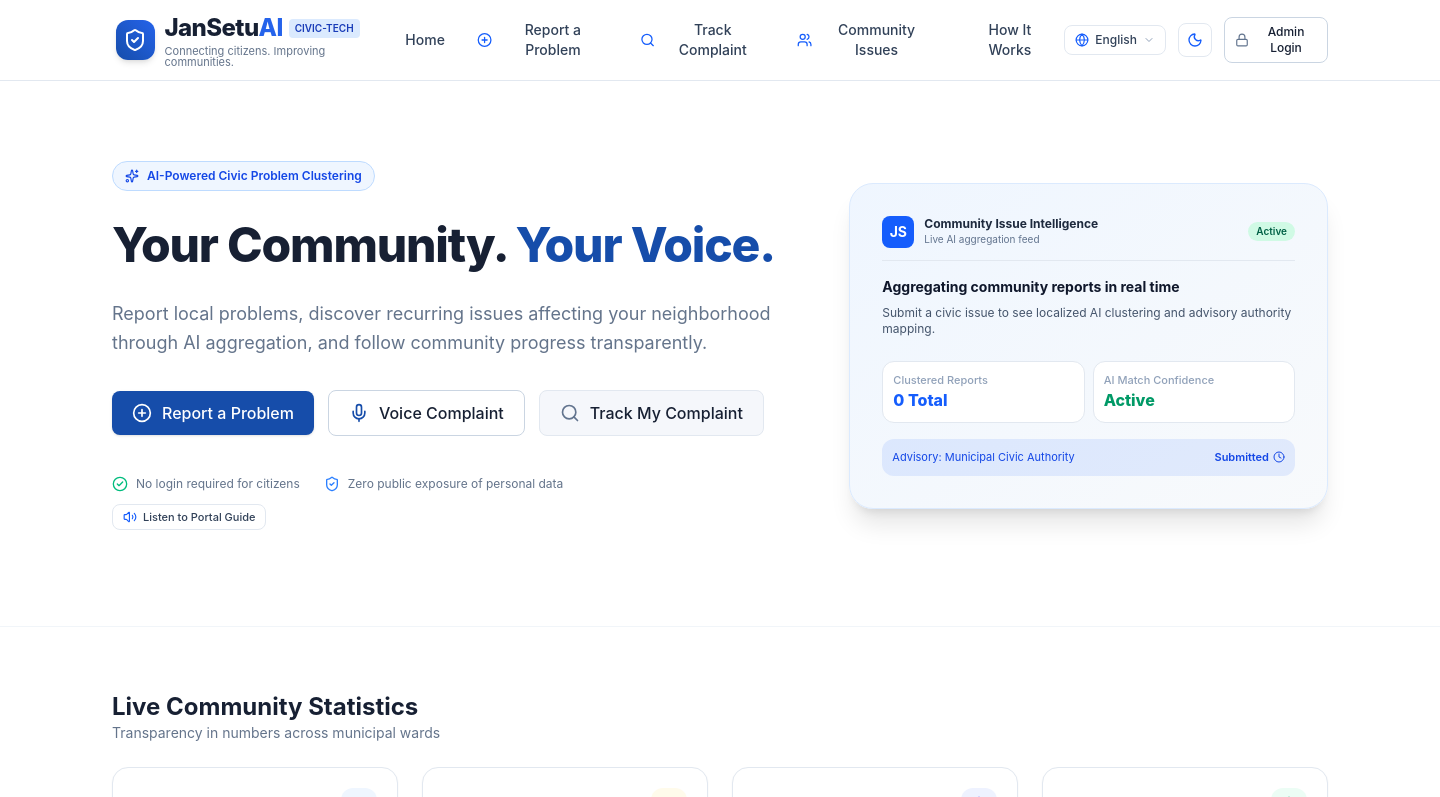
Test: JanSetu AI Integrated Frontend Test Suite › 7. Submitting complaint calls API, shows Reference ID & secret Tracking Code, and shows 112 guidance for emergencies
Click the 1st button "Report a Problem": (542, 40) [465,12,620,68]
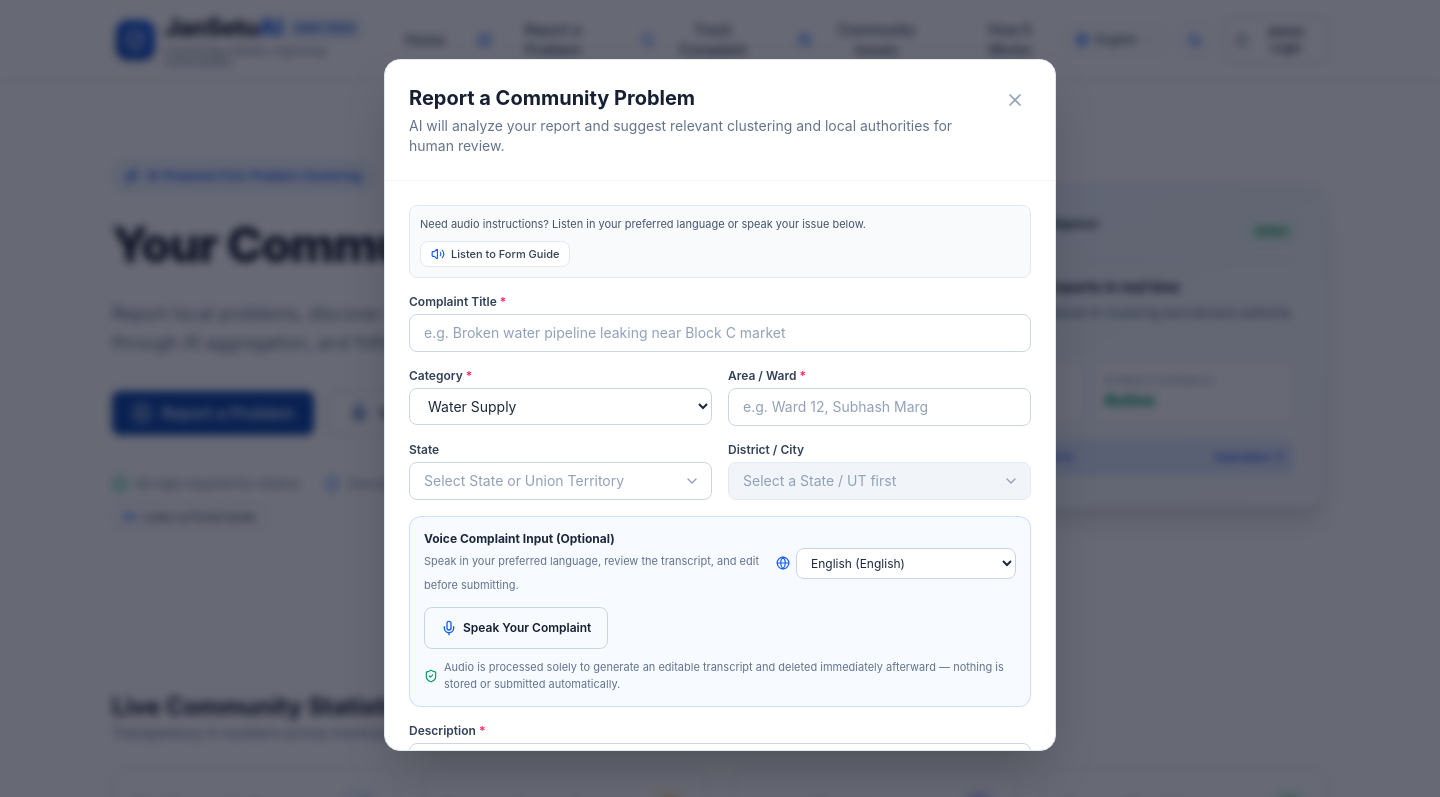
In the field with placeholder "e.g. Broken water pipeline leaking near Block C market": (720, 333) [409,314,1031,352], type "Violent robbery in market square"
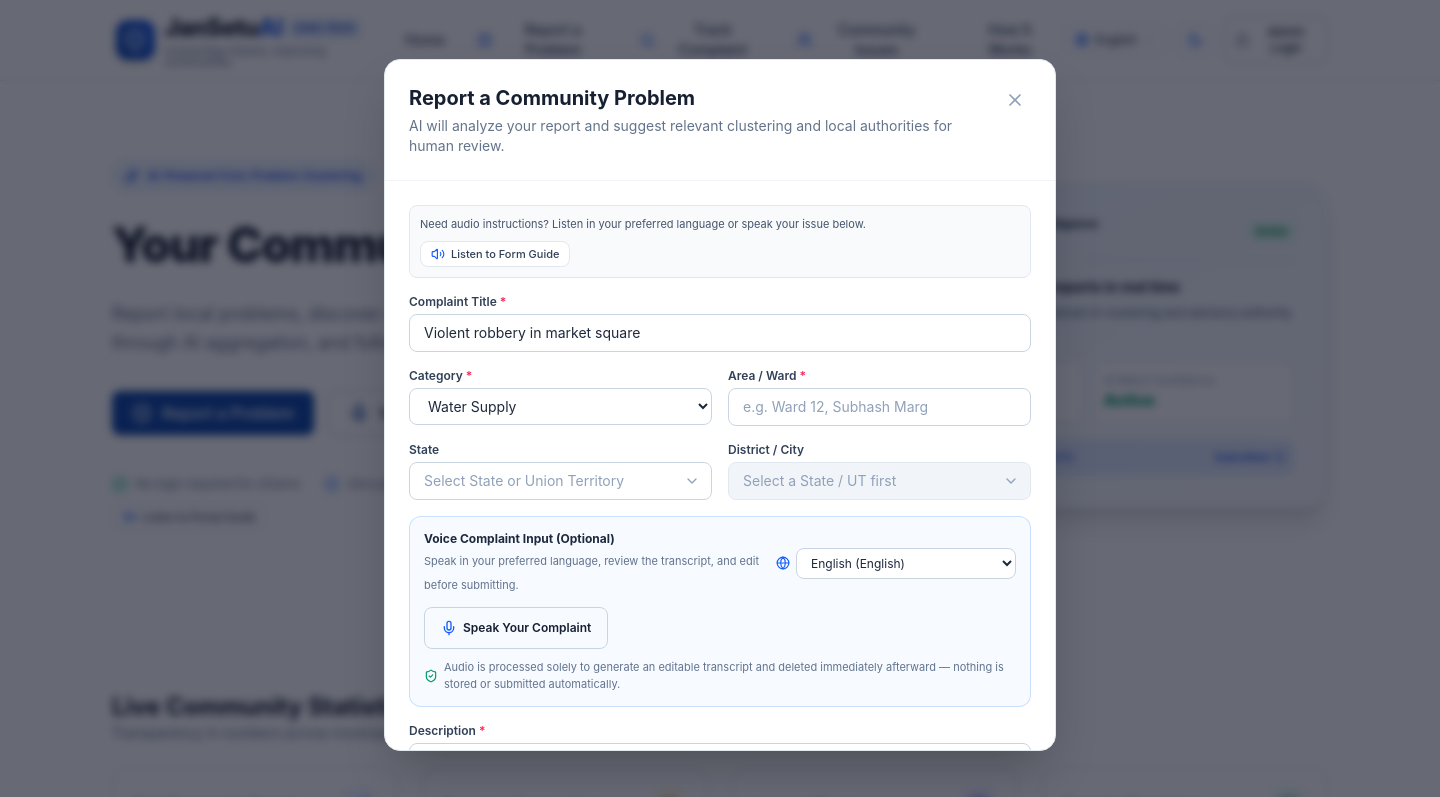
In the field with placeholder "e.g. Ward 12, Subhash Marg": (880, 407) [728,388,1031,426], type "Ward 2"
(page scrolled)
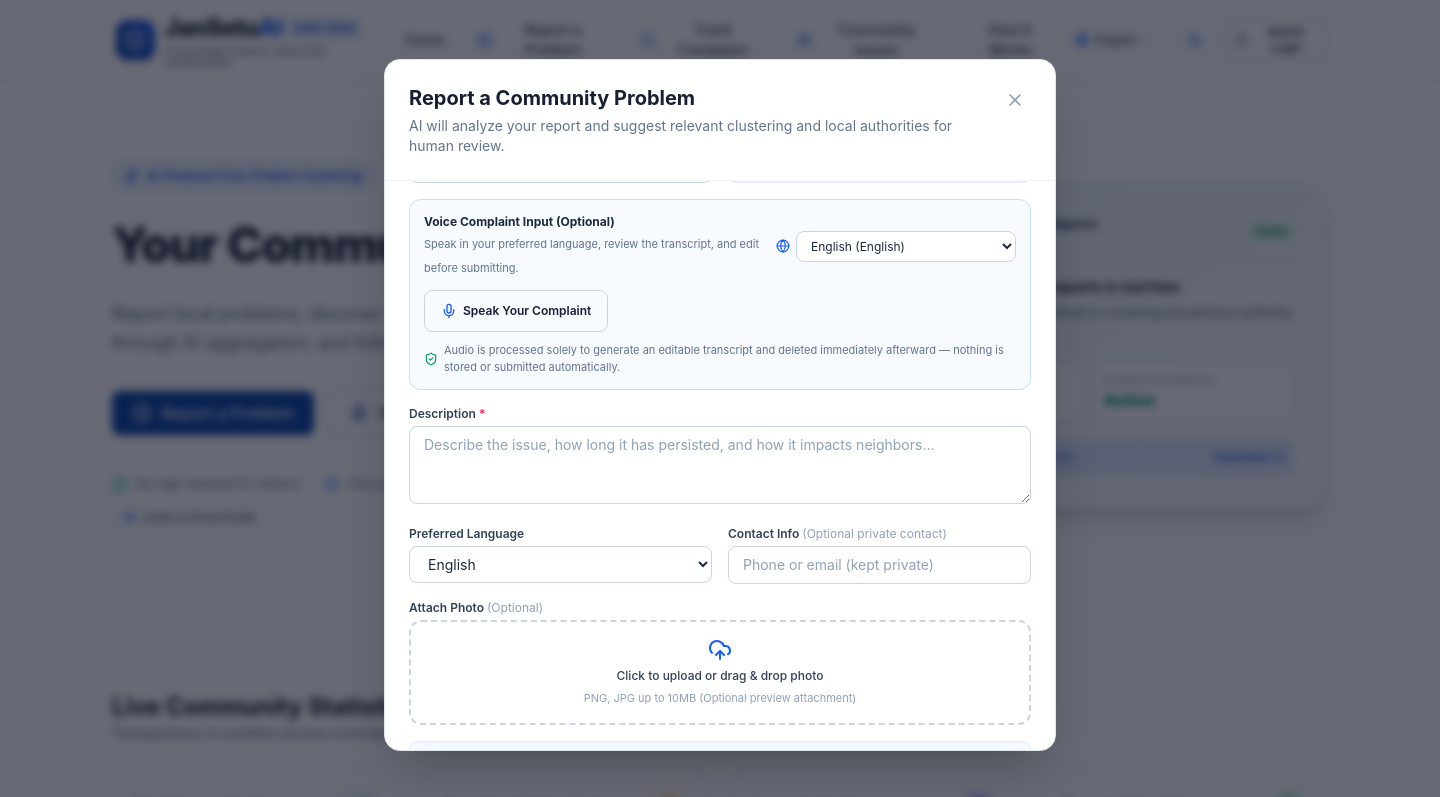
Replace the text in the text box with placeholder "Describe the issue" with "Armed attackers damaging shops, please send police squad right away.": (720, 465) [409,426,1031,504]
(page scrolled)
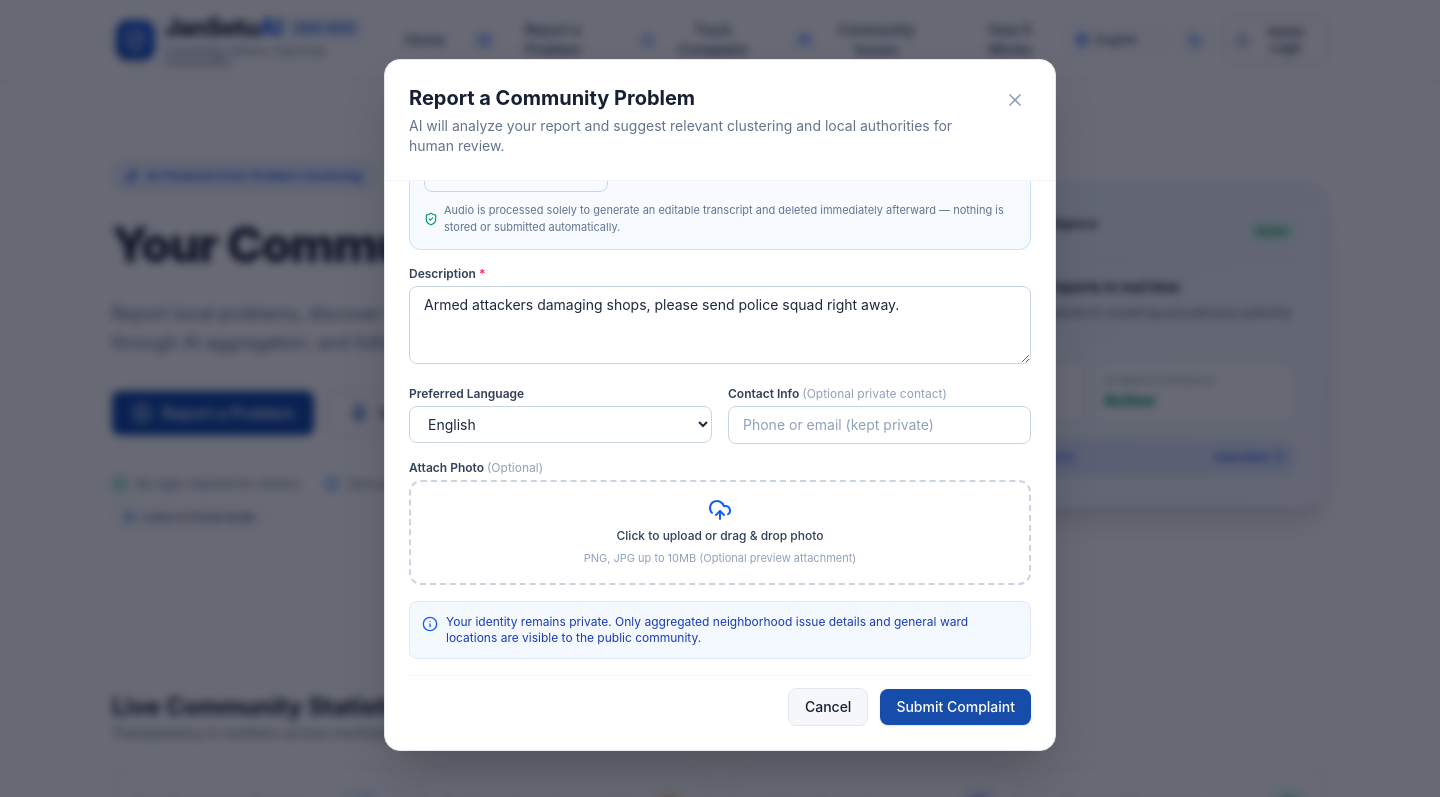
Click the button "Submit Complaint": (956, 707) [880,689,1031,725]
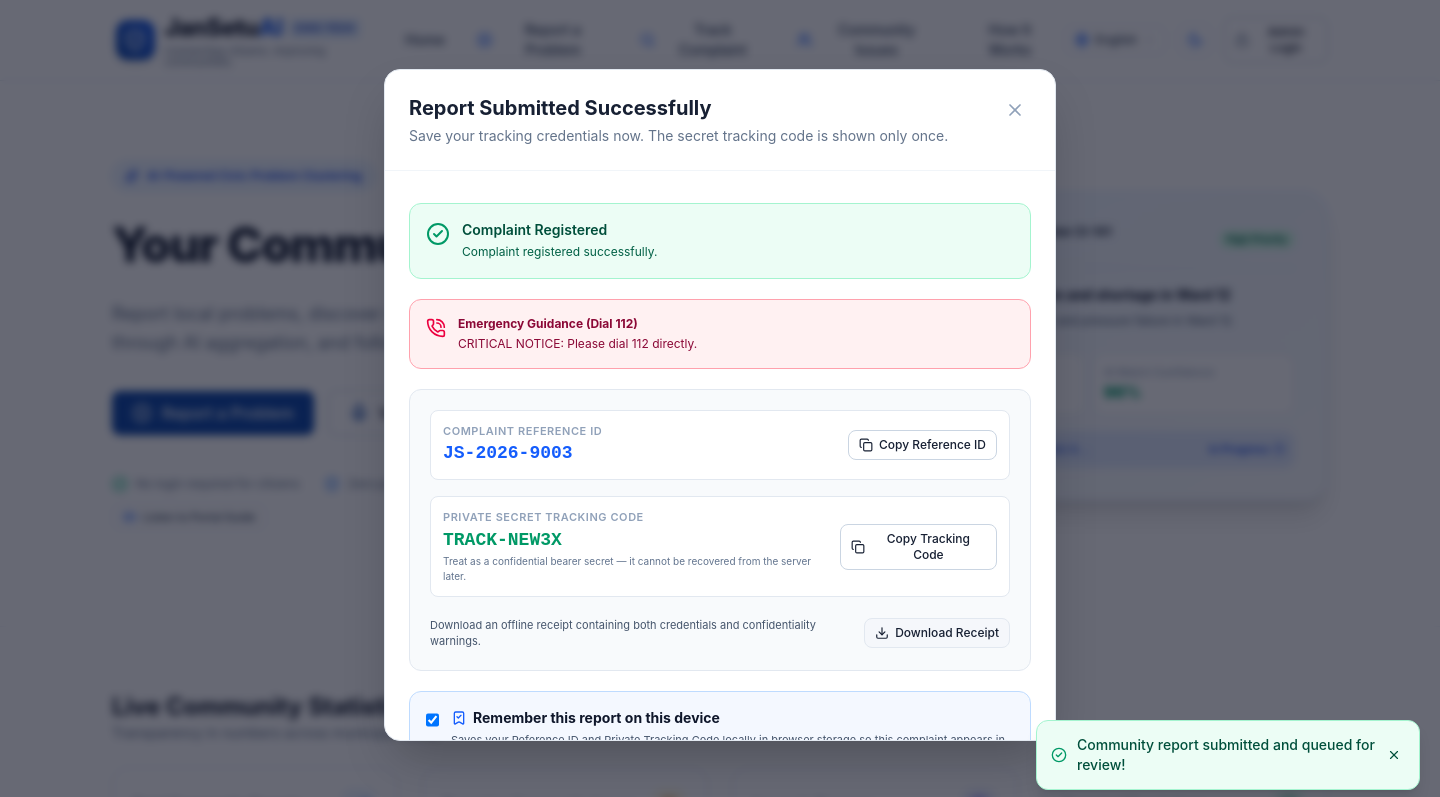
expect the heading "Report Submitted Successfully" is shown: met, box [409,96,712,120]
expect the text "Complaint Reference ID" is shown: met, box [443,423,602,439]
expect the text "Private Secret Tracking Code" is shown: met, box [443,510,644,524]
